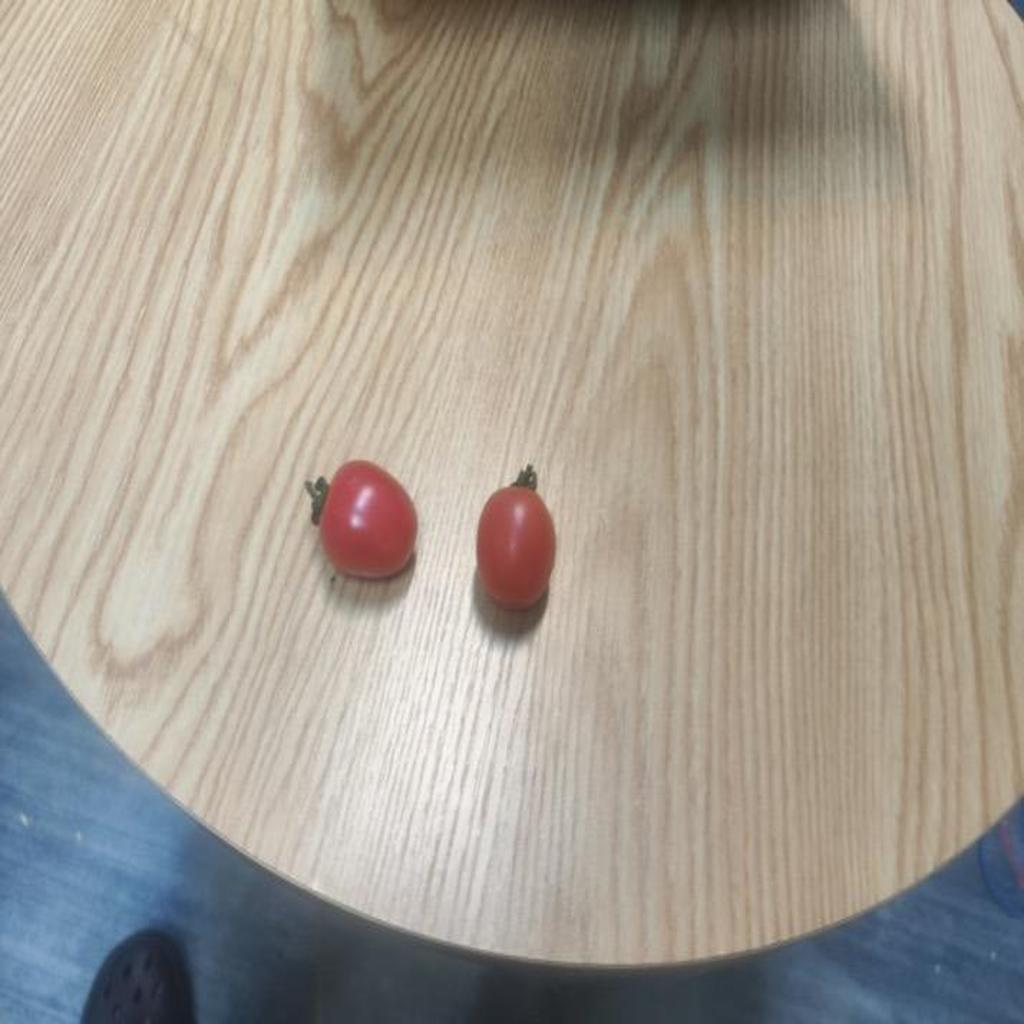tomato: (302, 454, 418, 588), (457, 459, 546, 615)
